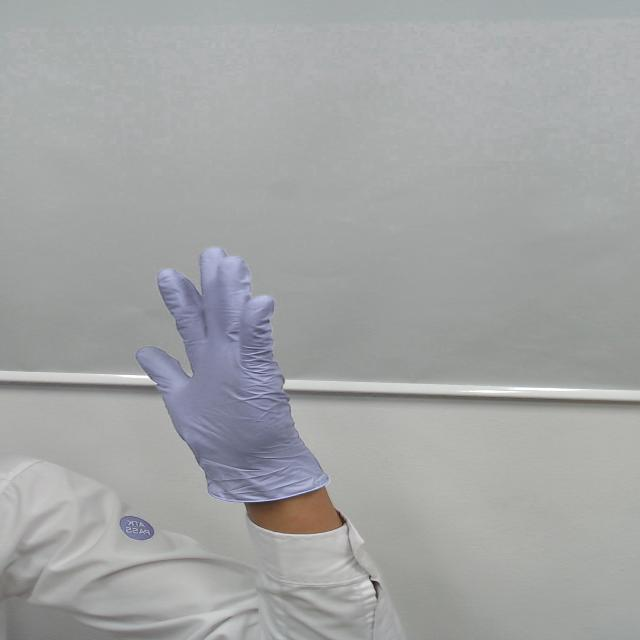glove: (120, 239, 299, 464)
